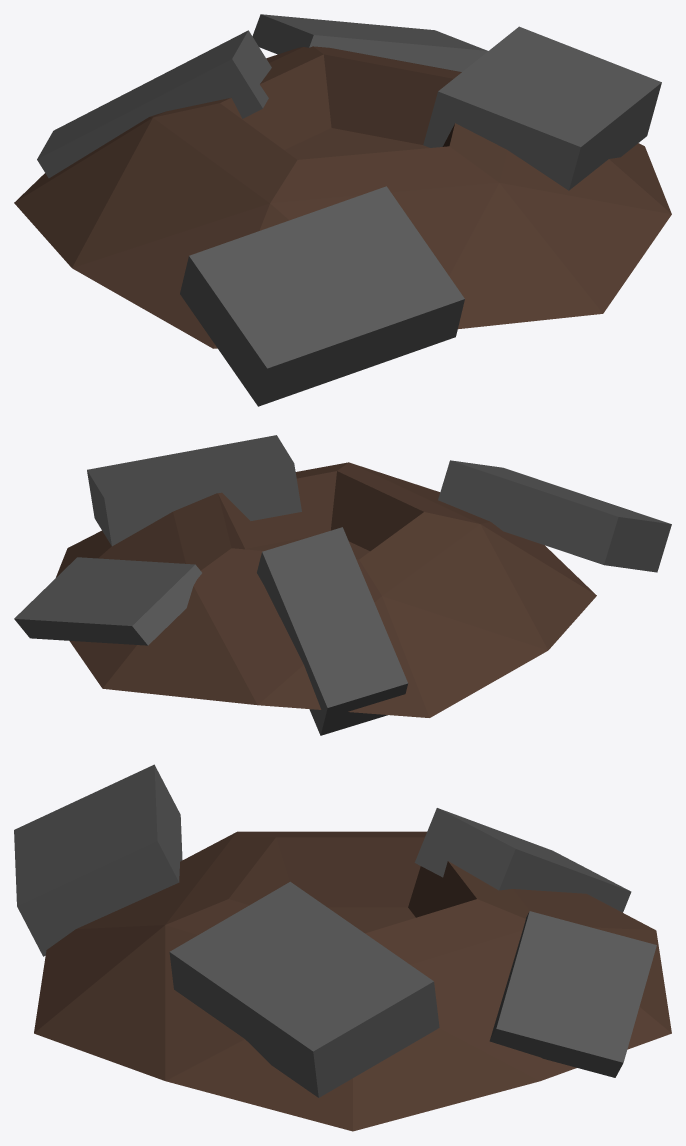
The model's file is Geyser.fbx.
3 renders of one model, top to bottom at view 1: azimuth 30°, elevation 25°; view 2: azimuth 150°, elevation 25°; view 3: azimuth 270°, elevation 25°, orthographic. The views are drawn at different scales.
Visible parts, largest first — view 1: Geyser; view 2: Geyser; view 3: Geyser.
Part boxes in pixels (x1,y1,x2,y2): Geyser: [14, 14, 671, 406]; Geyser: [14, 435, 671, 735]; Geyser: [14, 764, 671, 1131].
Size of the model in its own units: 48.43 by 13.75 by 48.68.
